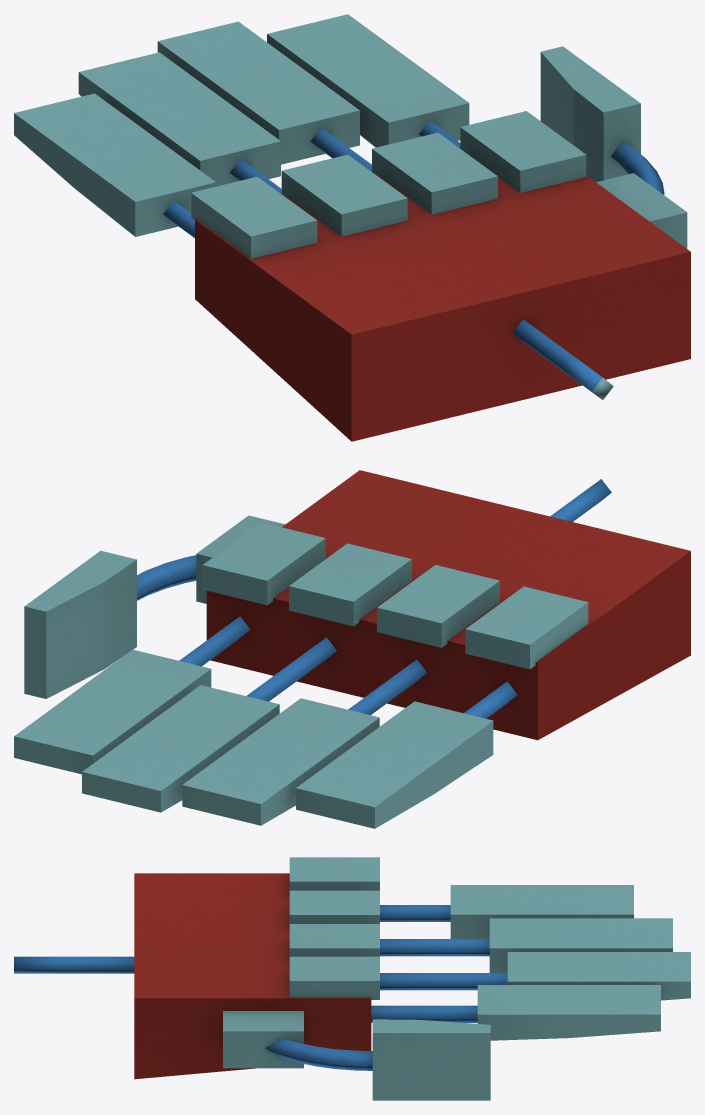
File: left-hand.glb
The picture shows the model from 3 angles, top to bottom: view 1: azimuth 30°, elevation 25°; view 2: azimuth 150°, elevation 25°; view 3: azimuth 270°, elevation 25°; orthographic projection. The views are drawn at different scales.
Parts seen in each view (by area): view 1: Robot002_mesh; view 2: Robot002_mesh; view 3: Robot002_mesh.
Boxes of the visible parts, box(x1,y1,x2,y2) form: Robot002_mesh: box(14, 14, 690, 441); Robot002_mesh: box(14, 470, 690, 828); Robot002_mesh: box(14, 857, 690, 1100).
Bounding box in the file's own units: 0.3103 × 0.0845 × 0.5307.
Materials: 1 (1 with a texture image).
